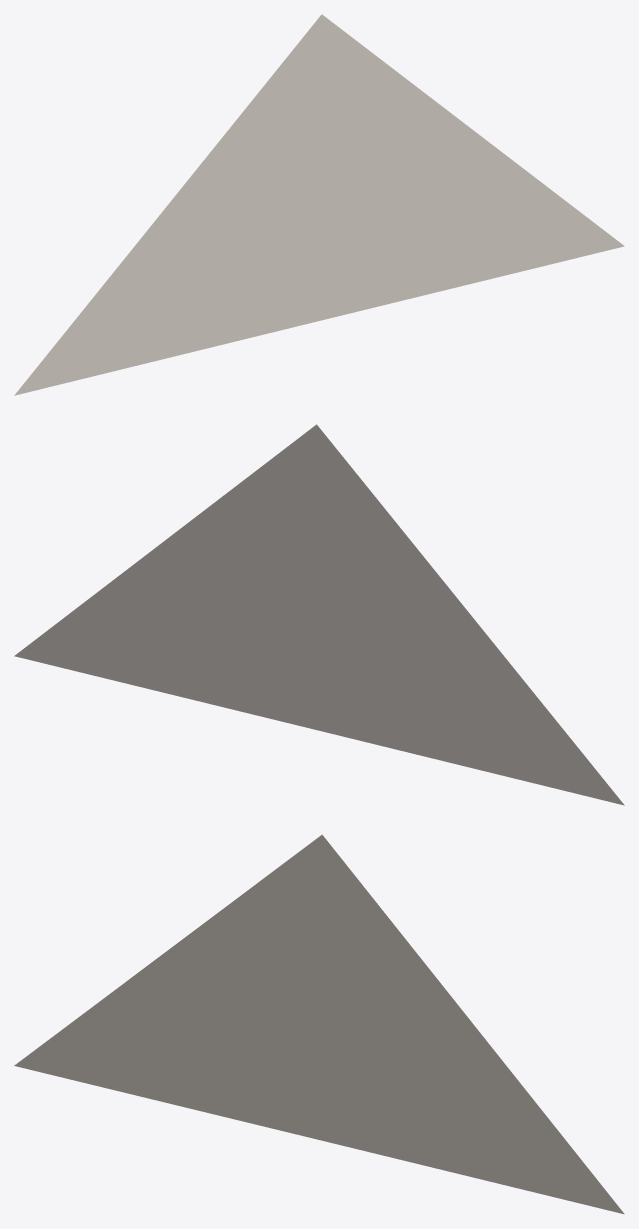
File: SM_L_R_Home_Side_roof.fbx
The picture shows the model from 3 angles, top to bottom: view 1: azimuth 30°, elevation 25°; view 2: azimuth 150°, elevation 25°; view 3: azimuth 330°, elevation 25°; orthographic projection.
Visible parts, largest first — view 1: SM_L_R_Home_Side_roof; view 2: SM_L_R_Home_Side_roof; view 3: SM_L_R_Home_Side_roof.
Part boxes in pixels (x1=…): SM_L_R_Home_Side_roof: x1=14, y1=14, x2=624, y2=395; SM_L_R_Home_Side_roof: x1=14, y1=424, x2=624, y2=805; SM_L_R_Home_Side_roof: x1=14, y1=834, x2=624, y2=1214.
Size of the model in its own units: 2.87 by 1.38 by 0.0019.
